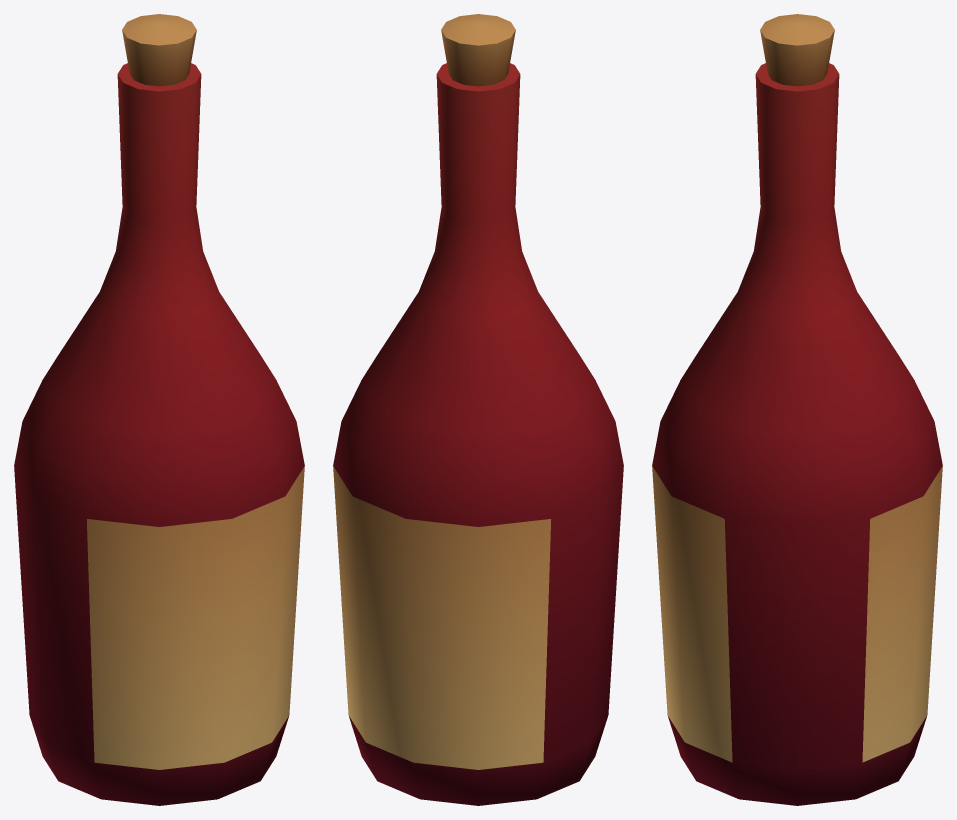
The model's file is Bottle_01.glb.
3 renders of one model, left to right at view 1: azimuth 30°, elevation 25°; view 2: azimuth 150°, elevation 25°; view 3: azimuth 270°, elevation 25°, orthographic.
Parts seen in each view (by area): view 1: Bottle_01; view 2: Bottle_01; view 3: Bottle_01.
Part boxes in pixels (x1,y1,x2,y2): Bottle_01: (14, 14, 304, 805); Bottle_01: (333, 14, 623, 805); Bottle_01: (652, 14, 942, 805).
Bounding box in the file's own units: 0.2652 × 0.7504 × 0.2652.
Materials: 1 (1 with a texture image).
